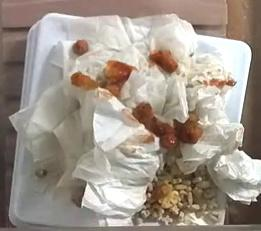rice_mix: (133, 164, 218, 225)
